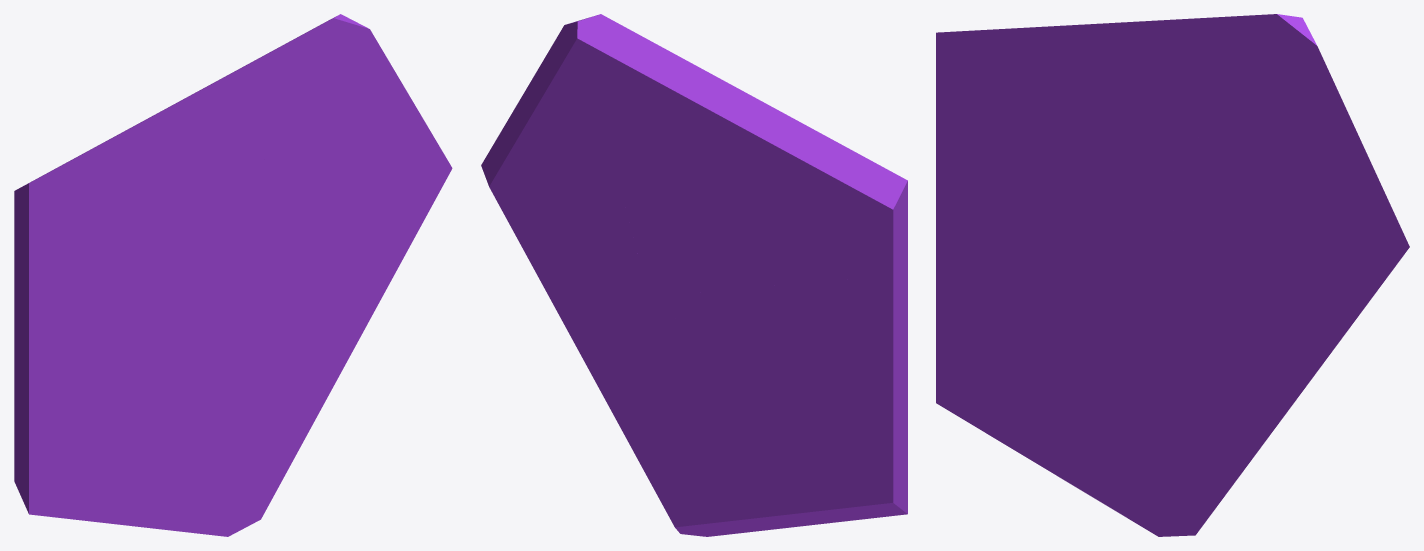
File: Glass_83_0_8_chunks.fbx
The picture shows the model from 3 angles, left to right: view 1: azimuth 30°, elevation 25°; view 2: azimuth 150°, elevation 25°; view 3: azimuth 330°, elevation 25°; orthographic projection. The views are drawn at different scales.
Parts seen in each view (by area): view 1: Glass_83_0_8_2, Glass_83_0_8_3, Glass_83_0_8_0, Glass_83_0_8_1; view 2: Glass_83_0_8_2, Glass_83_0_8_0, Glass_83_0_8_1, Glass_83_0_8_3; view 3: Glass_83_0_8_2, Glass_83_0_8_3, Glass_83_0_8_0, Glass_83_0_8_1.
Boxes of the visible parts, x1=… form: Glass_83_0_8_2: x1=14, y1=245, x2=260, y2=536; Glass_83_0_8_3: x1=239, y1=14, x2=452, y2=285; Glass_83_0_8_0: x1=14, y1=28, x2=313, y2=263; Glass_83_0_8_1: x1=253, y1=217, x2=425, y2=523; Glass_83_0_8_2: x1=675, y1=243, x2=907, y2=536; Glass_83_0_8_0: x1=586, y1=36, x2=907, y2=294; Glass_83_0_8_1: x1=493, y1=194, x2=682, y2=533; Glass_83_0_8_3: x1=481, y1=14, x2=641, y2=253; Glass_83_0_8_2: x1=936, y1=102, x2=1195, y2=536; Glass_83_0_8_3: x1=1171, y1=14, x2=1409, y2=286; Glass_83_0_8_0: x1=936, y1=16, x2=1230, y2=236; Glass_83_0_8_1: x1=1187, y1=273, x2=1379, y2=535.
Size of the model in its own units: 454 by 505 by 27.2.
